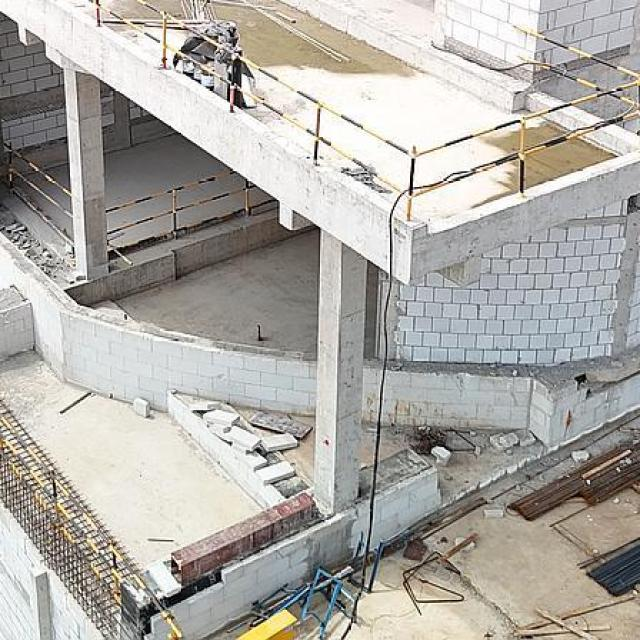edge_guardrail: (85, 0, 640, 223), (0, 413, 186, 640), (102, 171, 278, 266), (0, 142, 76, 248)
